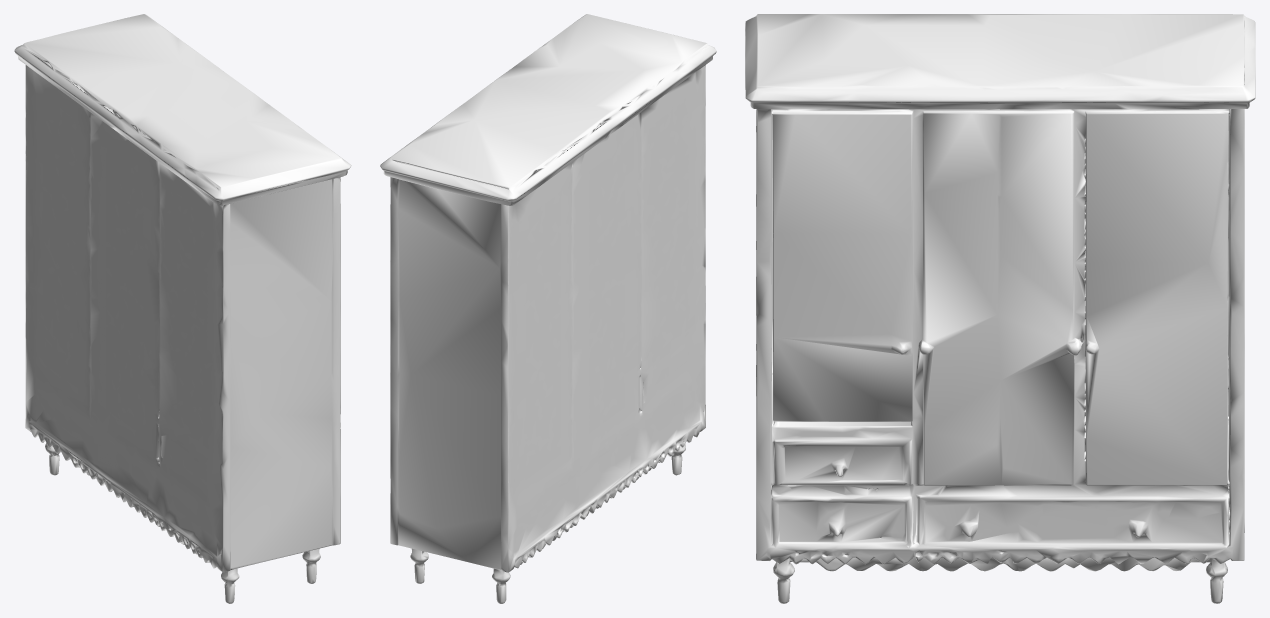
The model's file is 8XCg1ErZQ0mc0aQkVERoL.glb.
The picture shows the model from 3 angles, left to right: view 1: azimuth 30°, elevation 25°; view 2: azimuth 150°, elevation 25°; view 3: azimuth 270°, elevation 25°; orthographic projection. The views are drawn at different scales.
Parts seen in each view (by area): view 1: geometry_0; view 2: geometry_0; view 3: geometry_0.
Boxes of the visible parts, box(x1,y1,x2,y2) form: geometry_0: box(14, 14, 351, 603); geometry_0: box(380, 14, 716, 603); geometry_0: box(745, 14, 1255, 603).
Size of the model in its own units: 0.3339 by 1 by 0.8793.
Materials: 1 (1 with a texture image).
